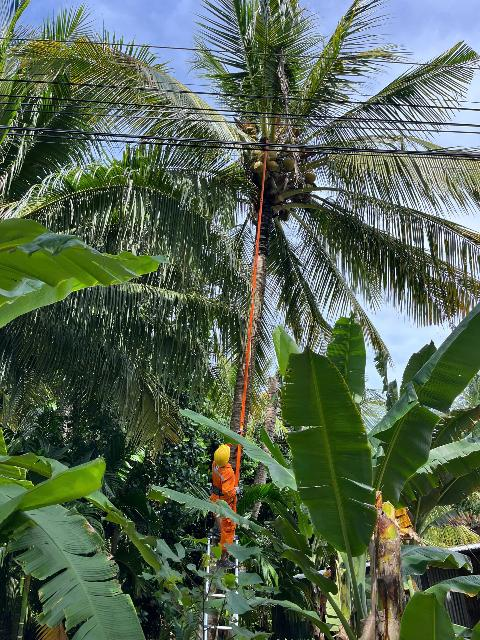gloves: (233, 485, 244, 495)
harness: (207, 481, 236, 499)
helmet: (207, 444, 234, 468)
shoes: (213, 553, 238, 570), (211, 522, 228, 540)
